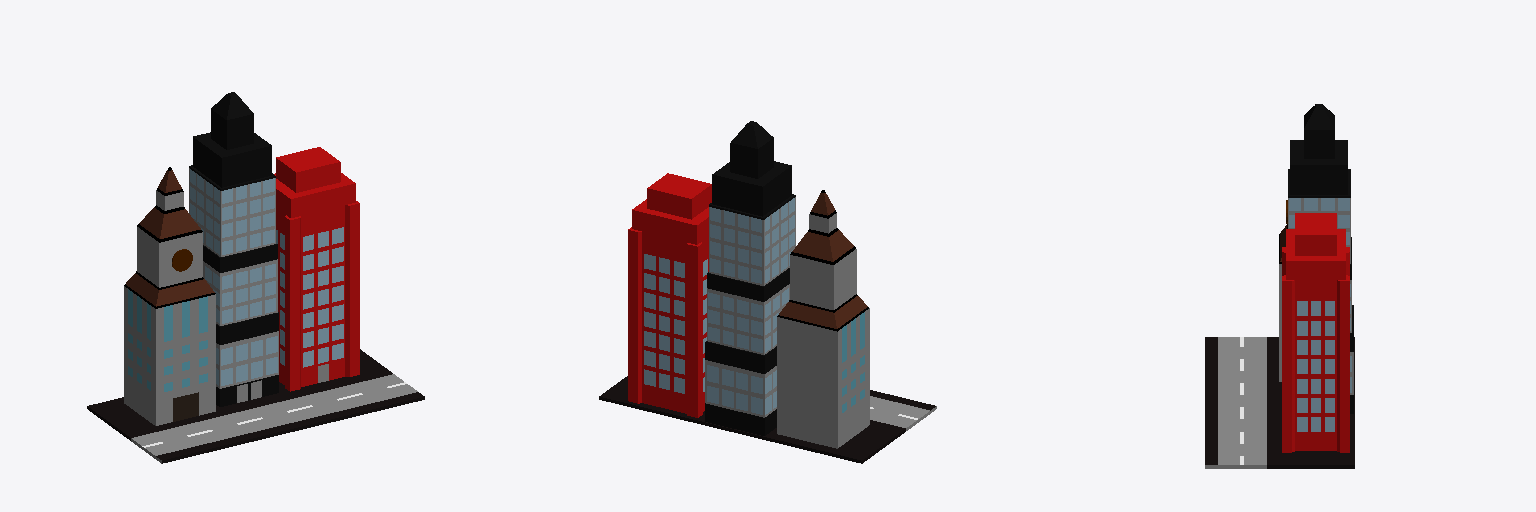
The model's file is Skycraper_173.obj.
3 views of the same model, side by side, from view 1: azimuth 30°, elevation 25°; view 2: azimuth 150°, elevation 25°; view 3: azimuth 270°, elevation 25° (orthographic).
Parts seen in each view (by area): view 1: Box001, Box002, Cylinder001, Box004; view 2: Box001, Cylinder001, Box002, Box004; view 3: Box002, Box004, Box001, Cylinder001.
Boxes of the visible parts, x1=… form: Box001: x1=189, y1=92, x2=278, y2=406; Box002: x1=274, y1=147, x2=359, y2=391; Cylinder001: x1=124, y1=167, x2=215, y2=425; Box004: x1=87, y1=349, x2=424, y2=463; Box001: x1=705, y1=121, x2=795, y2=435; Cylinder001: x1=777, y1=190, x2=869, y2=448; Box002: x1=628, y1=173, x2=711, y2=417; Box004: x1=599, y1=376, x2=936, y2=463; Box002: x1=1282, y1=213, x2=1349, y2=452; Box004: x1=1205, y1=337, x2=1354, y2=468; Box001: x1=1288, y1=104, x2=1353, y2=413; Cylinder001: x1=1279, y1=200, x2=1287, y2=381.
Size of the model in its own units: 263 by 284 by 129.